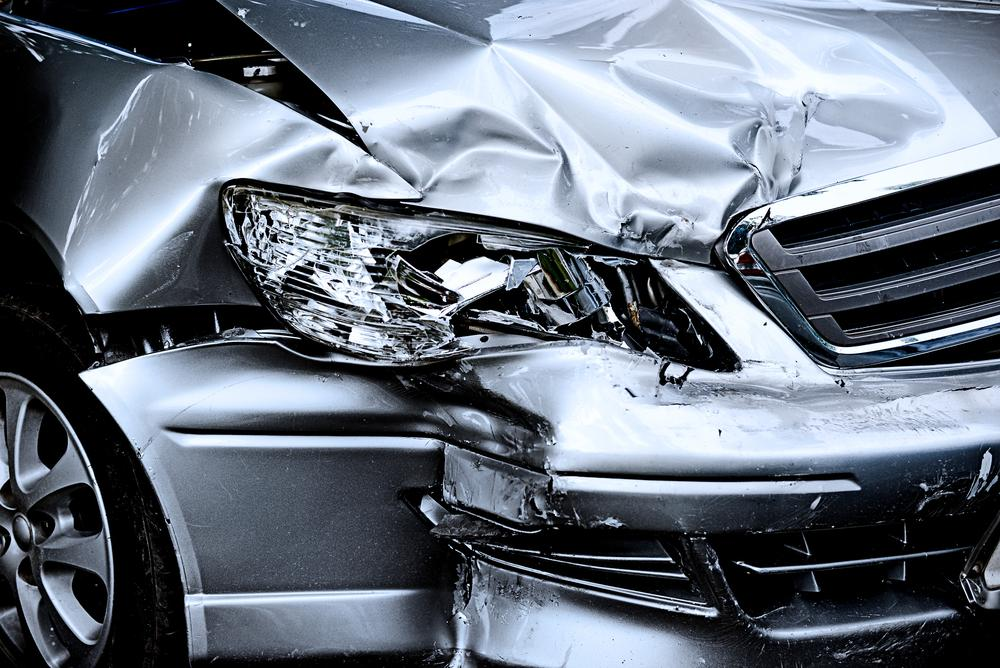crack: (916, 475, 977, 513)
dent: (368, 0, 936, 257), (385, 367, 556, 668), (116, 182, 253, 309), (256, 143, 413, 199)
lamp broken: (219, 177, 743, 374)
